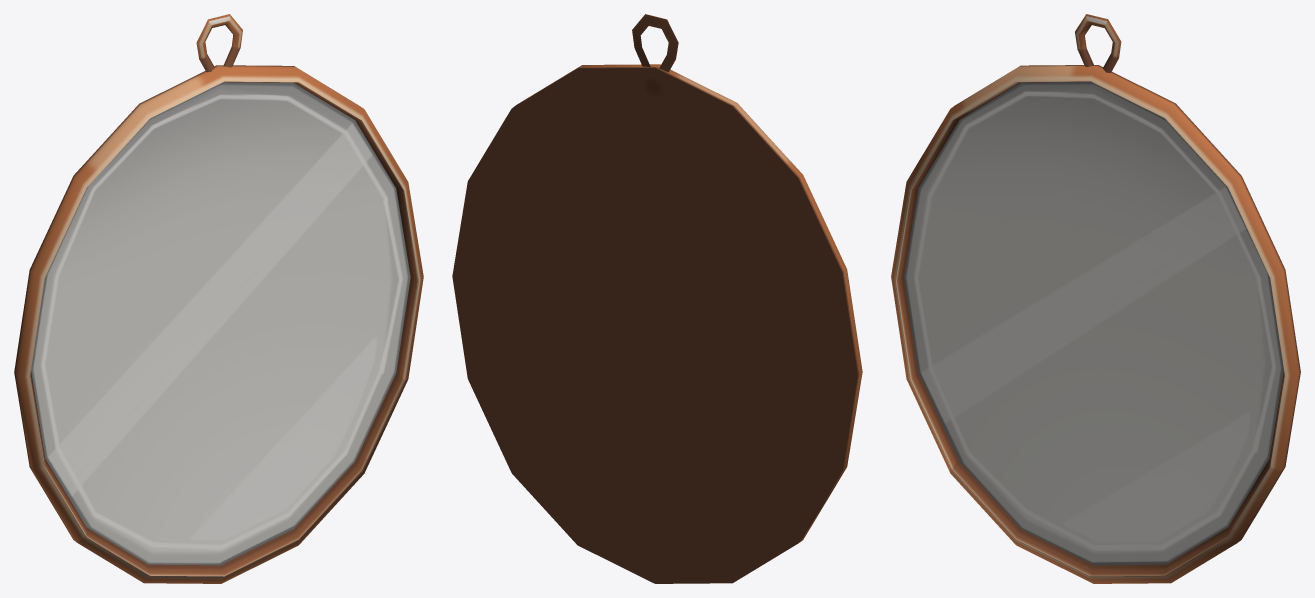
Rendered from bathroom_mirror_round.fbx.
3 views of the same model, side by side, from view 1: azimuth 30°, elevation 25°; view 2: azimuth 150°, elevation 25°; view 3: azimuth 330°, elevation 25° (orthographic).
Visible parts, largest first — view 1: bathroom_mirror_round; view 2: bathroom_mirror_round; view 3: bathroom_mirror_round.
Boxes of the visible parts, x1,y1,x2,y2 form: bathroom_mirror_round: (14,14,423,583); bathroom_mirror_round: (452,14,862,583); bathroom_mirror_round: (891,14,1300,583).
Size of the model in its own units: 51.88 by 69.16 by 1.75.
